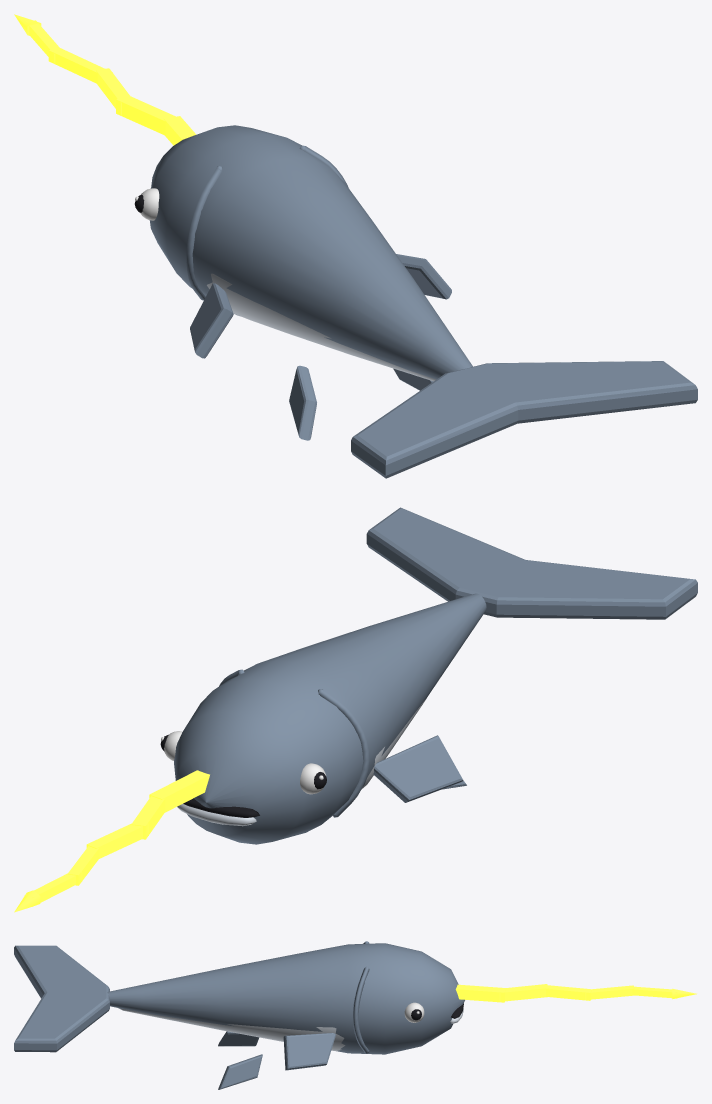
File: FISH_STORMNARWHAL.glb
The picture shows the model from 3 angles, top to bottom: view 1: azimuth 30°, elevation 25°; view 2: azimuth 150°, elevation 25°; view 3: azimuth 270°, elevation 25°; orthographic projection. The views are drawn at different scales.
Parts seen in each view (by area): view 1: NarwhalGrey, Glow, Belly; view 2: NarwhalGrey, Glow, Belly, EyeWhite, Eye; view 3: NarwhalGrey, Glow, Belly, EyeWhite.
Part boxes in pixels (x1,y1,x2,y2): NarwhalGrey: (149, 125, 697, 478); Glow: (14, 14, 196, 145); Belly: (207, 273, 435, 381); NarwhalGrey: (174, 507, 697, 844); Glow: (14, 770, 209, 912); Belly: (177, 698, 426, 826); EyeWhite: (161, 731, 326, 794); Eye: (160, 734, 326, 817); NarwhalGrey: (14, 941, 464, 1089); Glow: (455, 984, 696, 1002); Belly: (118, 1007, 463, 1050); EyeWhite: (404, 1002, 424, 1022).
Bounding box in the file's own units: 2.33 × 1.34 × 7.
